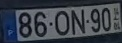0: (100, 6, 112, 32)
6: (32, 10, 48, 38)
8: (17, 11, 33, 39)
9: (89, 8, 101, 33)
N: (70, 8, 86, 36)
O: (52, 9, 69, 37)
